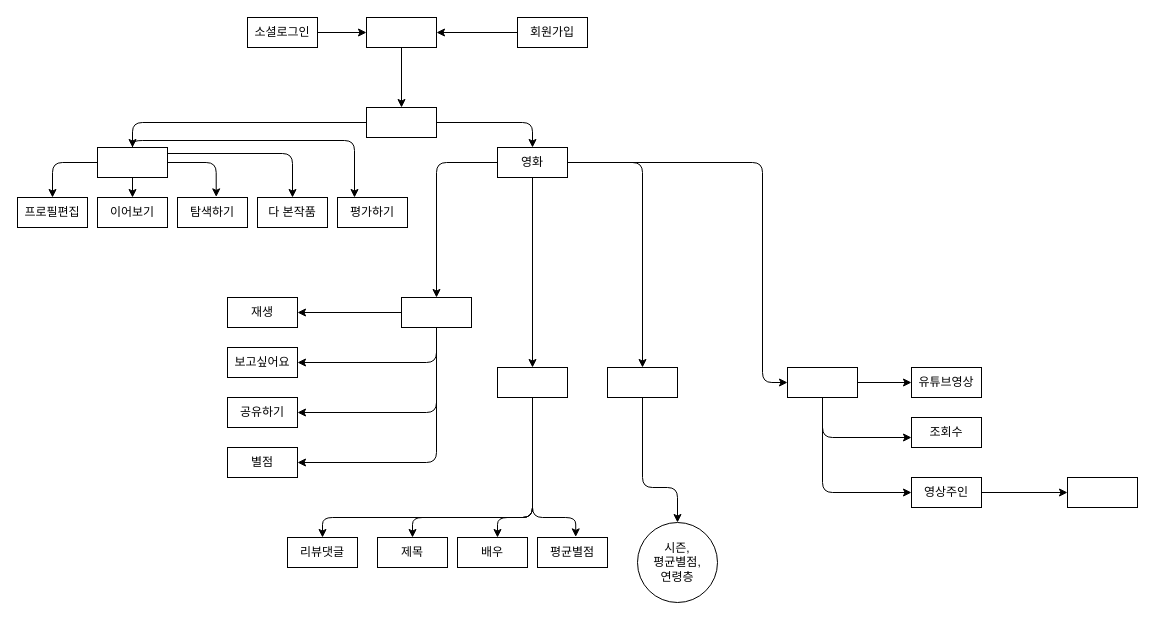
This 1155x620 diagram has some shape labels left out. Here are the shapes that lost their labels. From the top down, the box of each, then its label:
(366, 16, 436, 48): 로그인
(366, 106, 436, 138): main
(96, 146, 168, 178): 프로필
(400, 296, 472, 328): 기본정보
(496, 366, 568, 398): 상세정보
(606, 366, 678, 398): 에피소드
(786, 366, 858, 398): 리뷰영상
(1066, 476, 1138, 508): 해당유튜버페이지 이동
